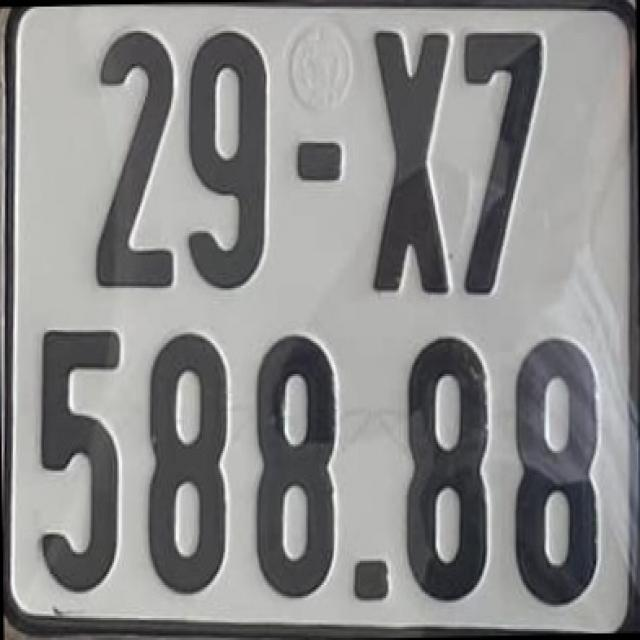2: (86, 22, 181, 295)
5: (32, 316, 128, 598)
7: (460, 24, 546, 299)
8: (399, 326, 495, 608), (510, 329, 604, 612), (249, 326, 344, 602), (142, 324, 233, 598)
9: (182, 22, 274, 293)
X: (366, 22, 454, 304)
